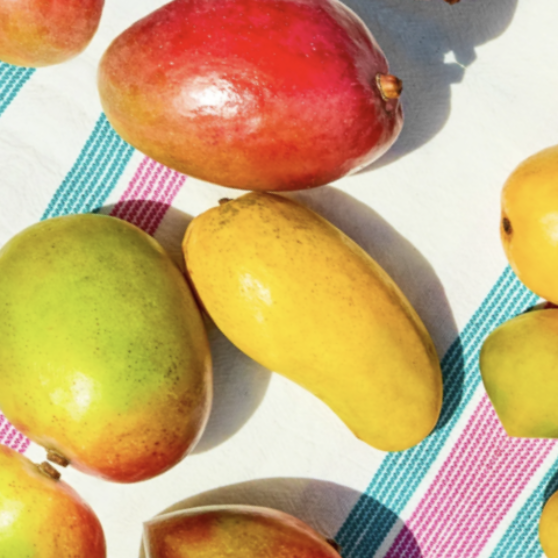mango: (112, 130, 525, 492), (52, 0, 492, 308), (0, 150, 330, 554)
